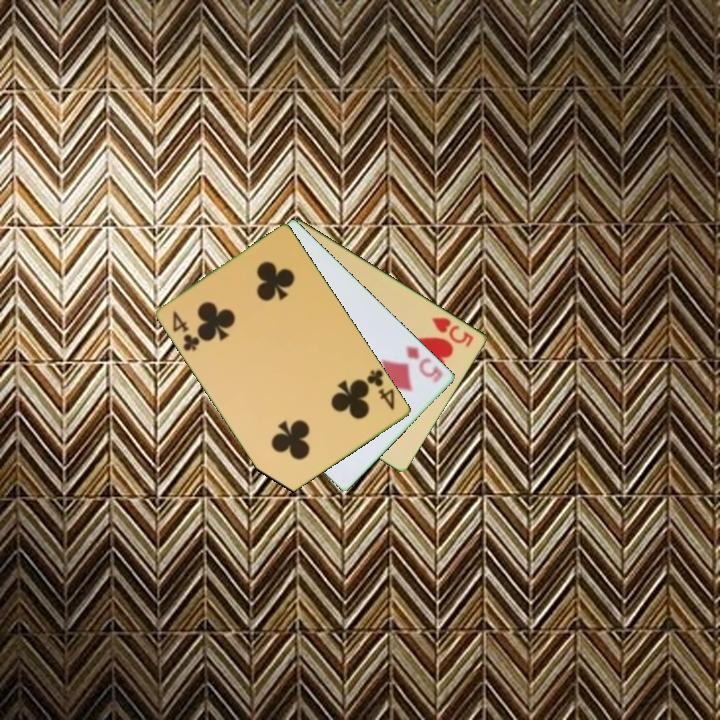4c: (363, 366, 398, 413), (169, 307, 203, 354)
5d: (403, 342, 446, 386)
5h: (429, 313, 477, 350)
